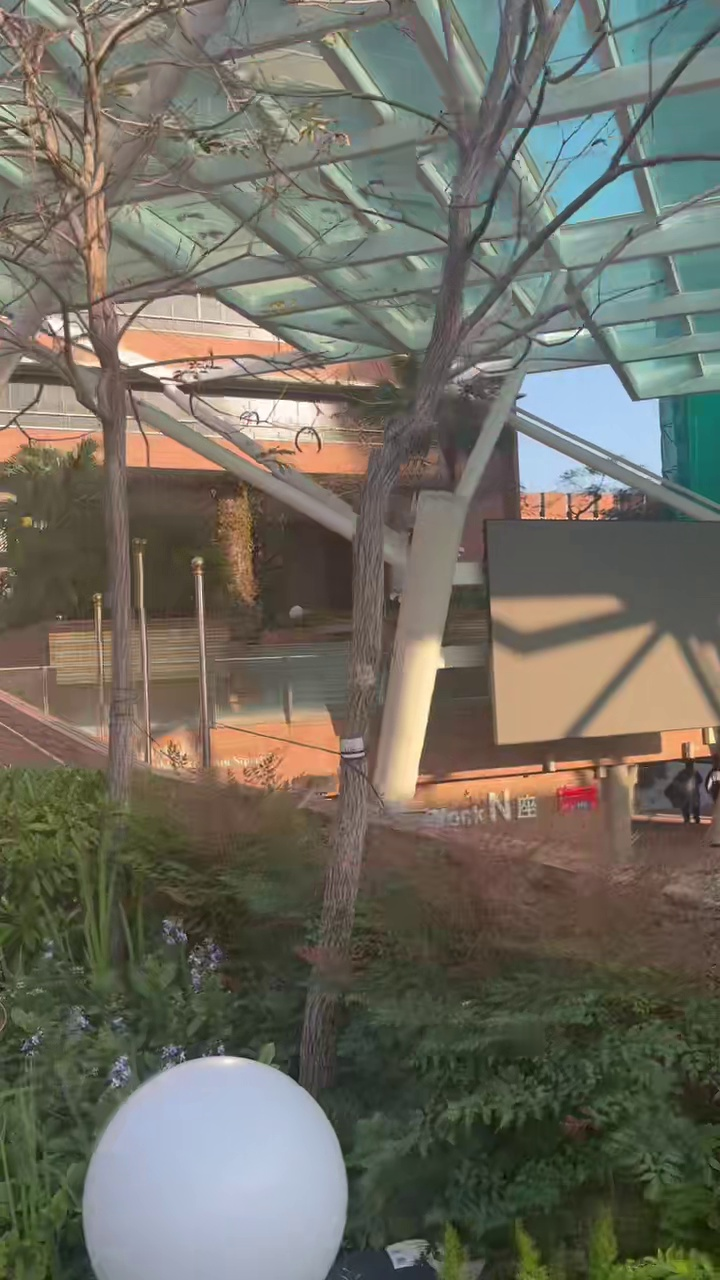Tabebuia chrysantha: (299, 0, 708, 1095)
